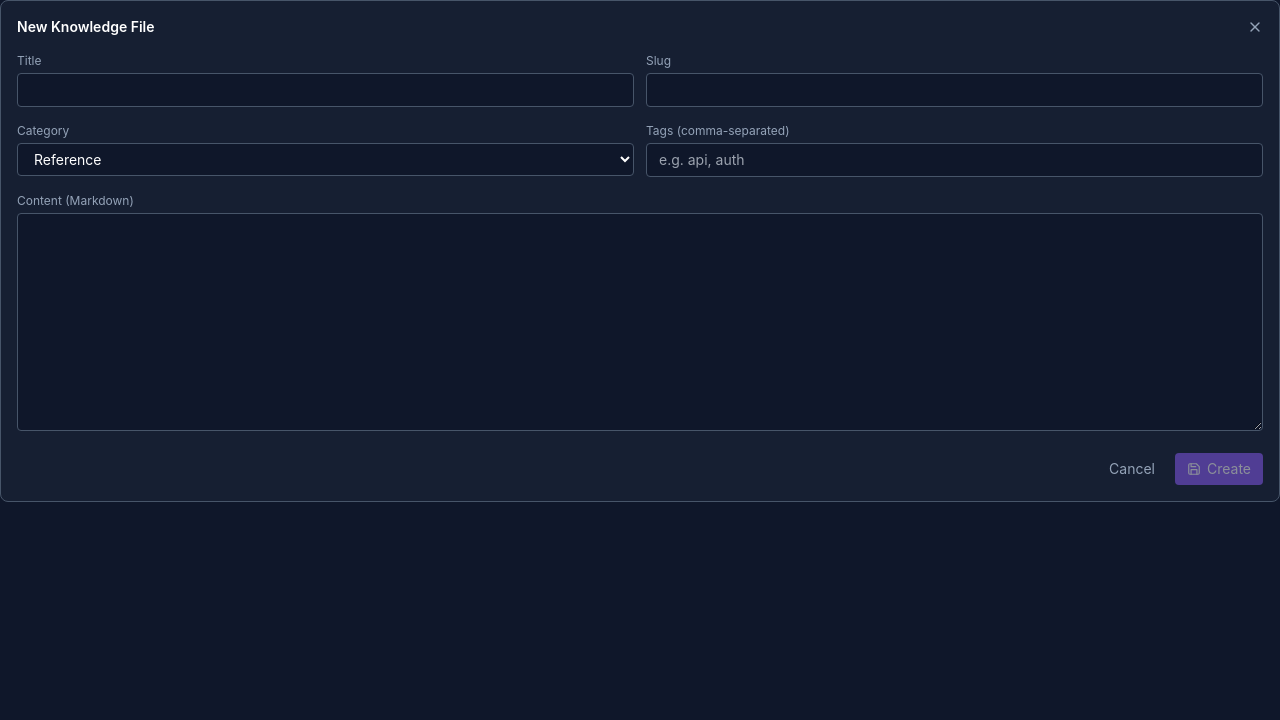
Scenario: KnowledgeFileForm › slug auto-generation › auto-generates slug from title in create mode
Type "My Database Schema" into the field labelled "Title" at (326, 90), box [17,73,634,107]
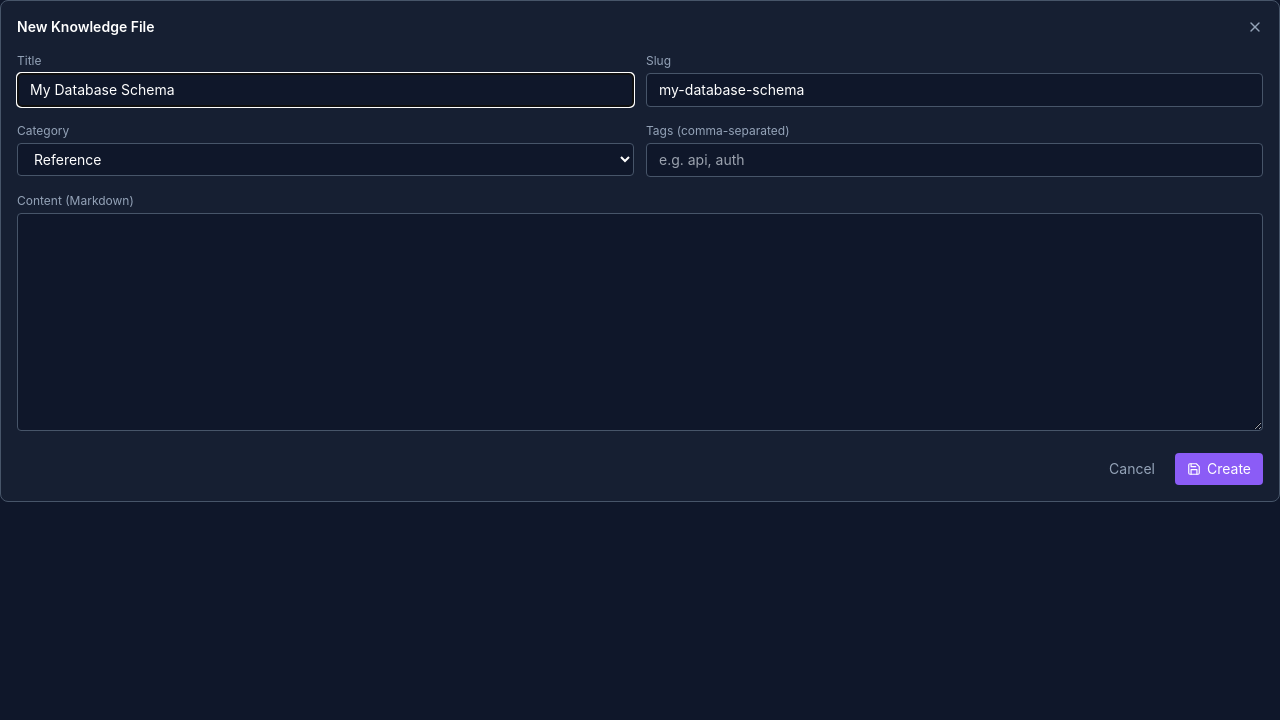
Expected: the field labelled "Slug" holds "my-database-schema", [646,73,1263,107]
